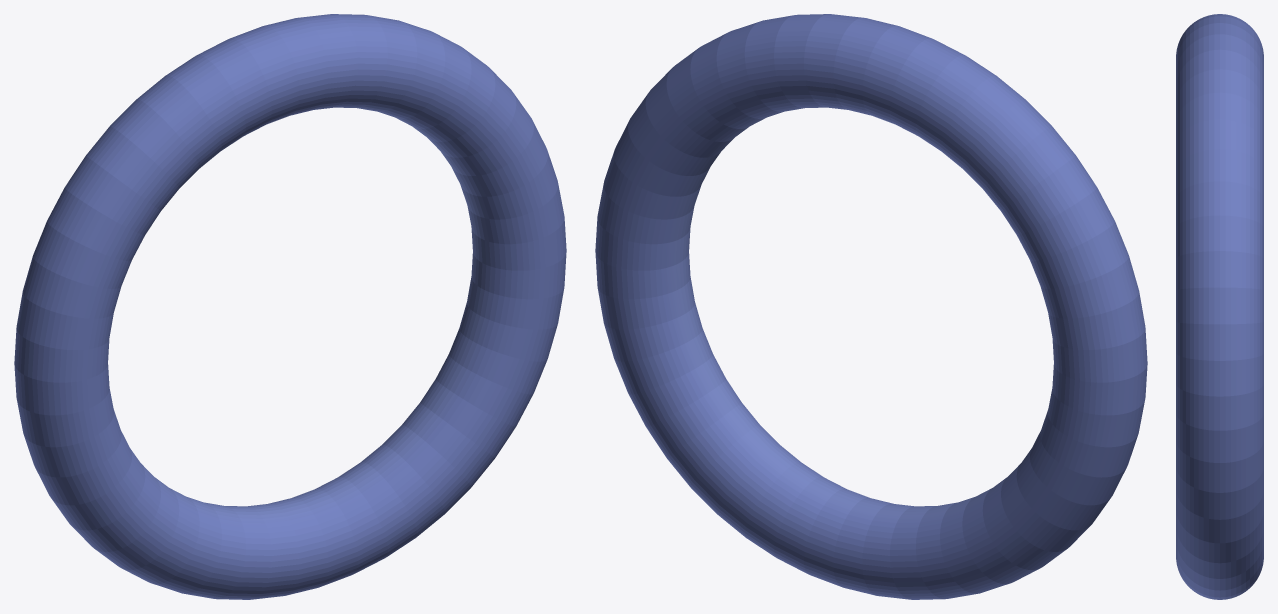
The picture shows the model from 3 angles, left to right: view 1: azimuth 30°, elevation 25°; view 2: azimuth 150°, elevation 25°; view 3: azimuth 270°, elevation 25°; orthographic projection. The views are drawn at different scales.
Parts seen in each view (by area): view 1: world; view 2: world; view 3: world.
Part boxes in pixels (x1,y1,x2,y2): world: (14,14,566,599); world: (595,14,1147,599); world: (1176,14,1263,599).
Bounding box in the file's own units: 20.4 × 20.36 × 3.06.
